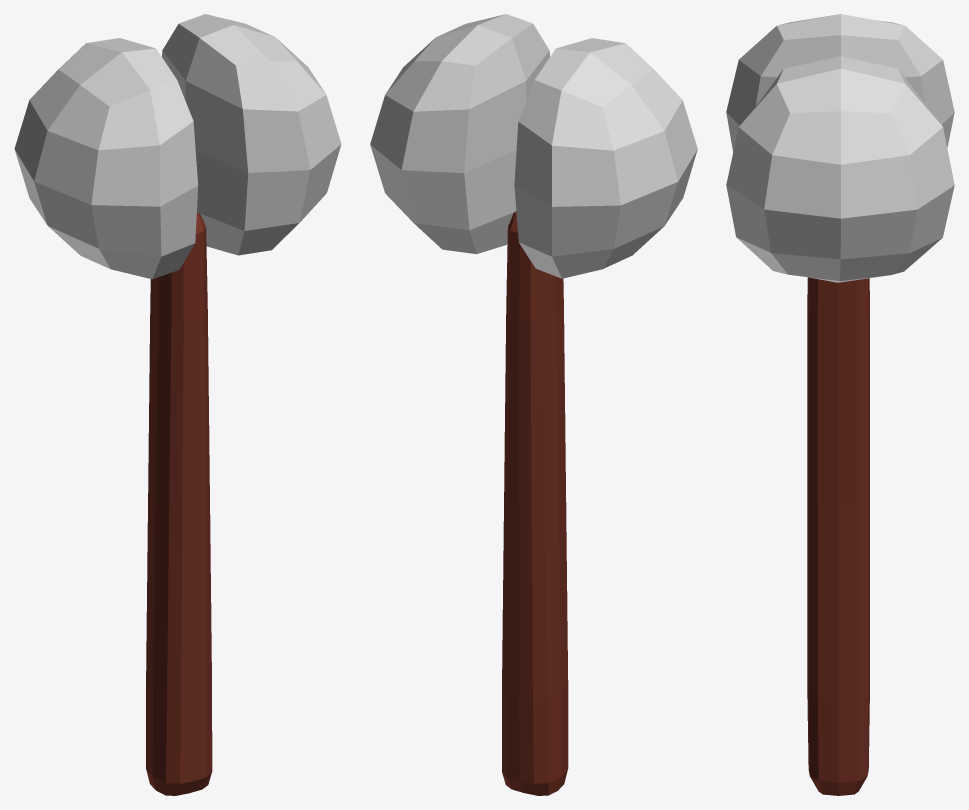
File: magic_stick.fbx
The picture shows the model from 3 angles, left to right: view 1: azimuth 30°, elevation 25°; view 2: azimuth 150°, elevation 25°; view 3: azimuth 270°, elevation 25°; orthographic projection.
Parts seen in each view (by area): view 1: Cube; view 2: Cube; view 3: Cube.
Boxes of the visible parts, bbox=[...] form: Cube: bbox=[14, 14, 341, 795]; Cube: bbox=[370, 14, 697, 795]; Cube: bbox=[726, 14, 954, 795].
Bounding box in the file's own units: 204 × 506 × 141.
